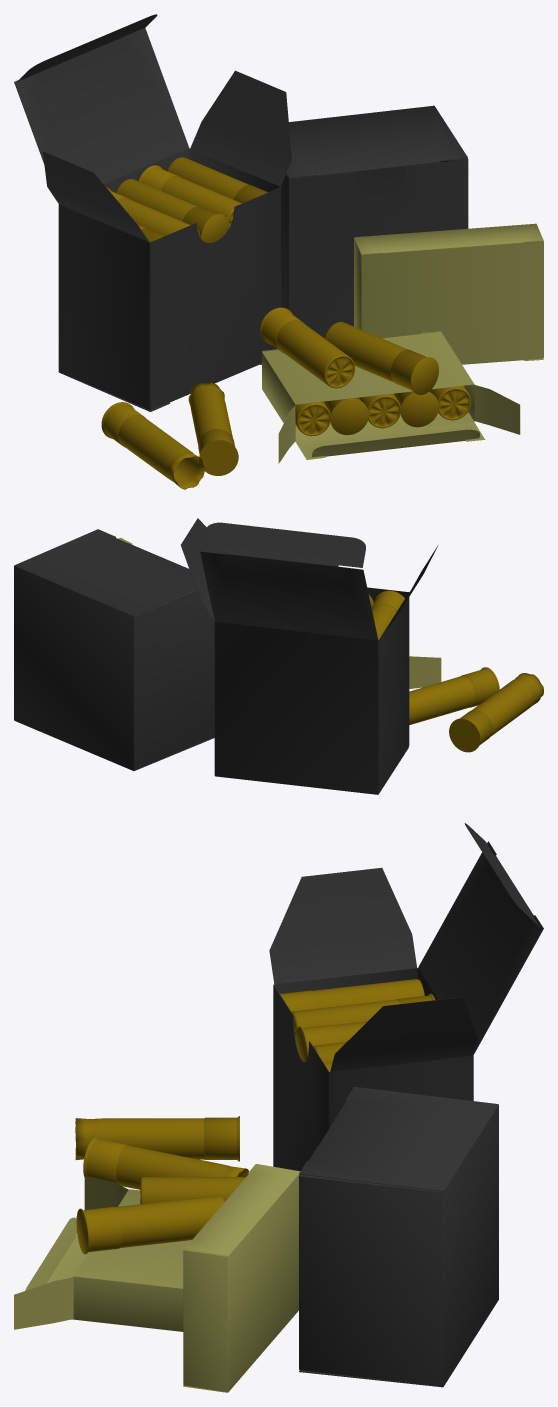
File: 12ga_FlechetteAllScene.FBX
3 views of the same model, one above another, from view 1: azimuth 30°, elevation 25°; view 2: azimuth 150°, elevation 25°; view 3: azimuth 270°, elevation 25° (orthographic). The views are drawn at different scales.
Visible parts, largest first — view 1: BoxOn25_12ga_Flechette (×2), BoxOn5_12ga_Flechette (×2), 12ga_Shell_Flechette, 12ga_Flechette001, 12ga_Flechette, 12ga_Shell_Flechette001; view 2: BoxOn25_12ga_Flechette (×2), 12ga_Shell_Flechette, 12ga_Shell_Flechette001, BoxOn5_12ga_Flechette; view 3: BoxOn25_12ga_Flechette (×2), BoxOn5_12ga_Flechette (×2), 12ga_Flechette001, 12ga_Shell_Flechette, 12ga_Shell_Flechette001, 12ga_Flechette.
Boxes of the visible parts, x1,y1,x2,y2 form: BoxOn25_12ga_Flechette (×2): [14, 14, 468, 411]; BoxOn5_12ga_Flechette (×2): [262, 223, 543, 463]; 12ga_Shell_Flechette: [101, 402, 204, 489]; 12ga_Flechette001: [324, 322, 438, 394]; 12ga_Flechette: [260, 307, 354, 388]; 12ga_Shell_Flechette001: [188, 382, 238, 475]; BoxOn25_12ga_Flechette (×2): [14, 518, 438, 794]; 12ga_Shell_Flechette: [449, 673, 543, 752]; 12ga_Shell_Flechette001: [409, 667, 499, 724]; BoxOn5_12ga_Flechette: [409, 656, 441, 688]; BoxOn25_12ga_Flechette (×2): [269, 823, 543, 1387]; BoxOn5_12ga_Flechette (×2): [14, 1164, 300, 1392]; 12ga_Flechette001: [76, 1195, 224, 1254]; 12ga_Shell_Flechette: [75, 1116, 239, 1161]; 12ga_Shell_Flechette001: [83, 1137, 248, 1189]; 12ga_Flechette: [140, 1177, 245, 1204].
Size of the model in its own units: 25.61 by 23.66 by 17.14.
